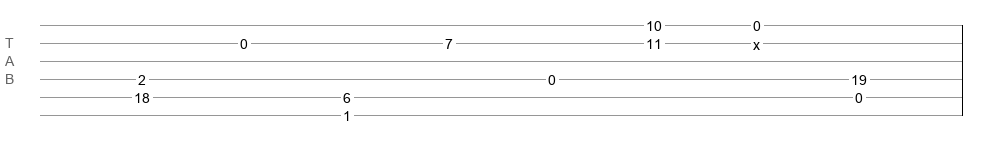0: (240, 36, 248, 46), (548, 72, 556, 82), (753, 18, 761, 28), (855, 90, 863, 100)
1: (343, 108, 351, 118)
10: (646, 18, 662, 28)
11: (646, 36, 662, 46)
18: (134, 90, 150, 100)
19: (851, 72, 867, 82)
2: (138, 72, 146, 82)
6: (343, 90, 351, 100)
7: (445, 36, 453, 46)
x: (753, 37, 760, 45)
